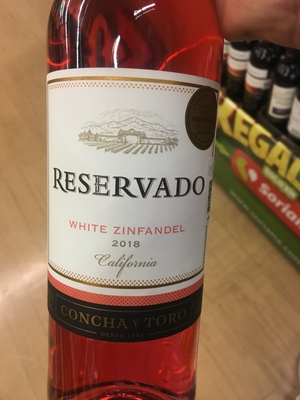reservado white zinfandel: (35, 14, 242, 400)
